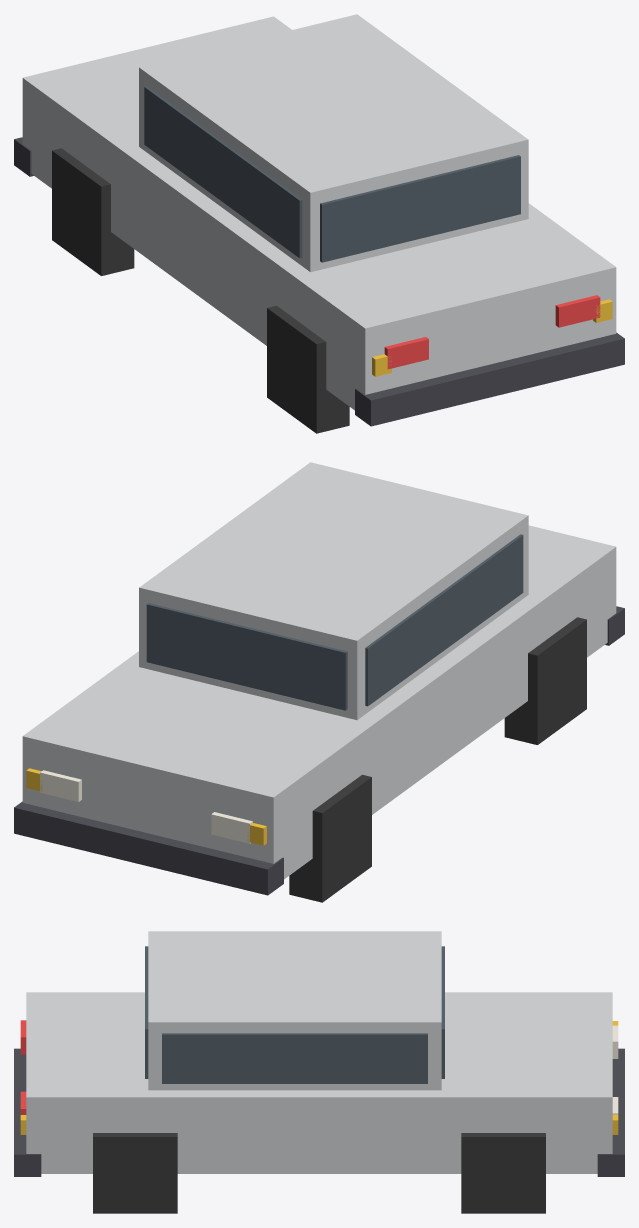
The model's file is SM_Auto_Urbano.fbx.
The picture shows the model from 3 angles, top to bottom: view 1: azimuth 30°, elevation 25°; view 2: azimuth 150°, elevation 25°; view 3: azimuth 270°, elevation 25°; orthographic projection. The views are drawn at different scales.
Parts seen in each view (by area): view 1: SM_Auto_Urbano; view 2: SM_Auto_Urbano; view 3: SM_Auto_Urbano.
Part boxes in pixels (box(x1,y1,x2,y2)): SM_Auto_Urbano: box(14, 14, 624, 433); SM_Auto_Urbano: box(14, 462, 624, 902); SM_Auto_Urbano: box(14, 931, 624, 1213).
Bounding box in the file's own units: 1.96 × 1.46 × 4.48.
